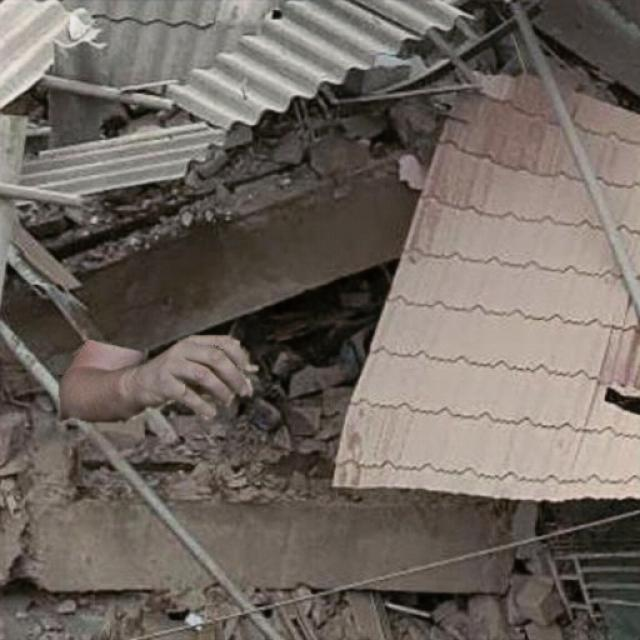Person in Rubble: (59, 335, 258, 421)
